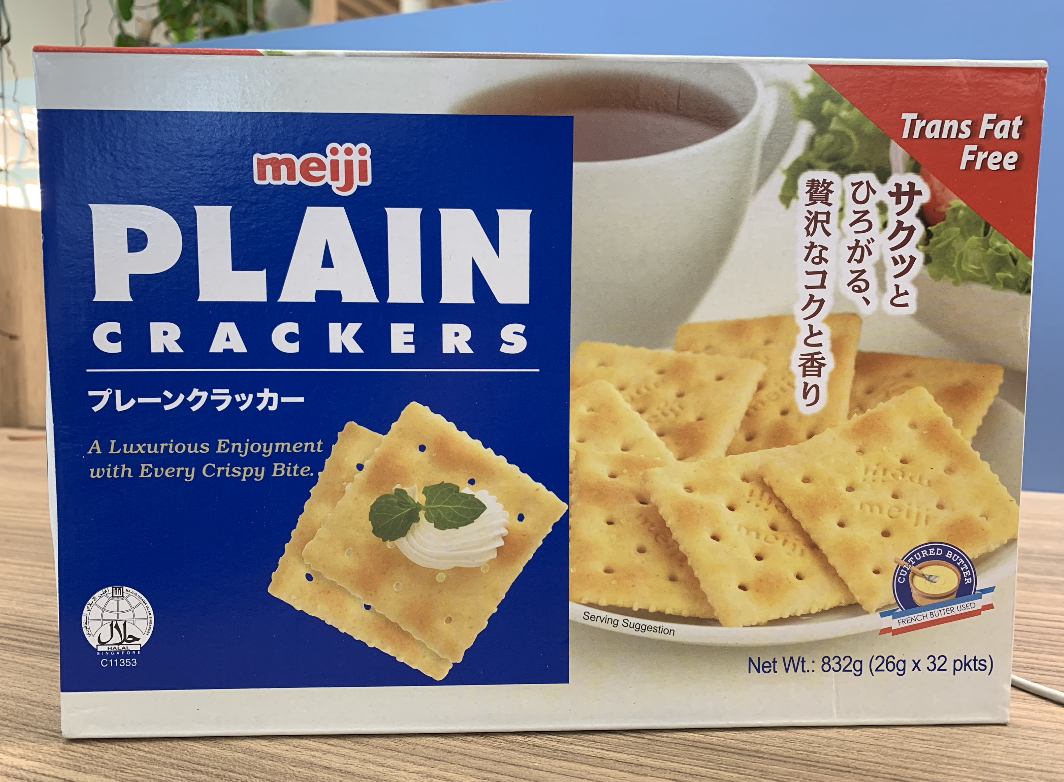crackers_850g: (74, 70, 1007, 695)
